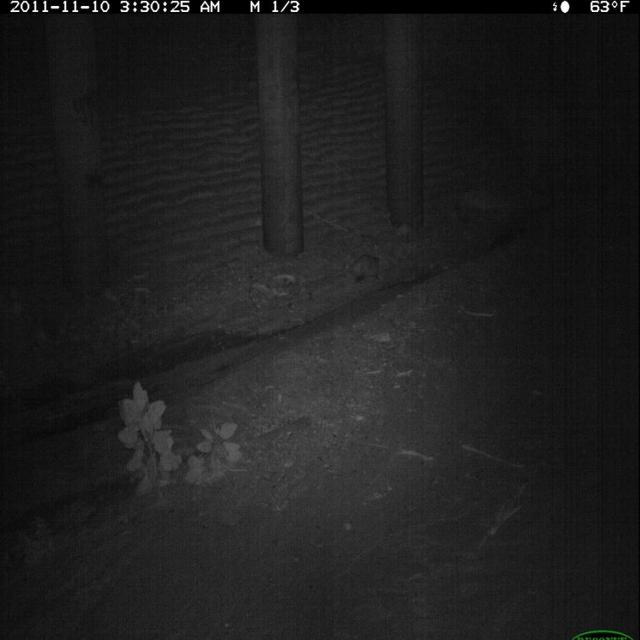opossum: (328, 249, 385, 288)
